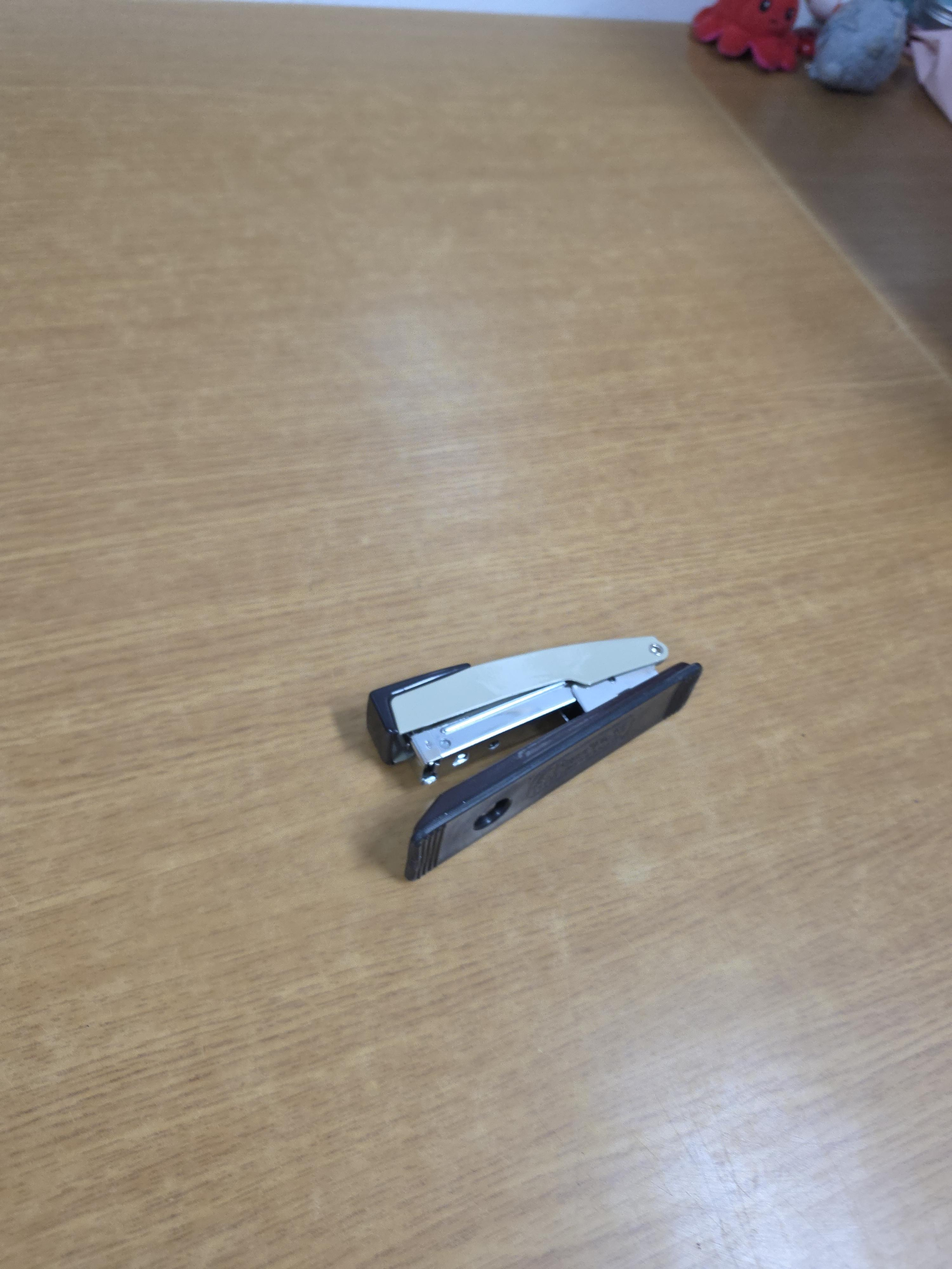stapler: (366, 636, 703, 882)
